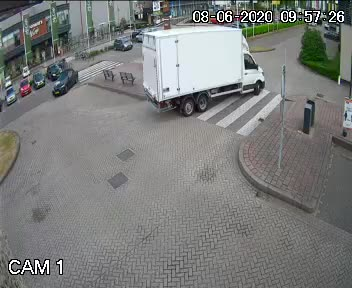car: (128, 16, 283, 116), (49, 68, 86, 99)
